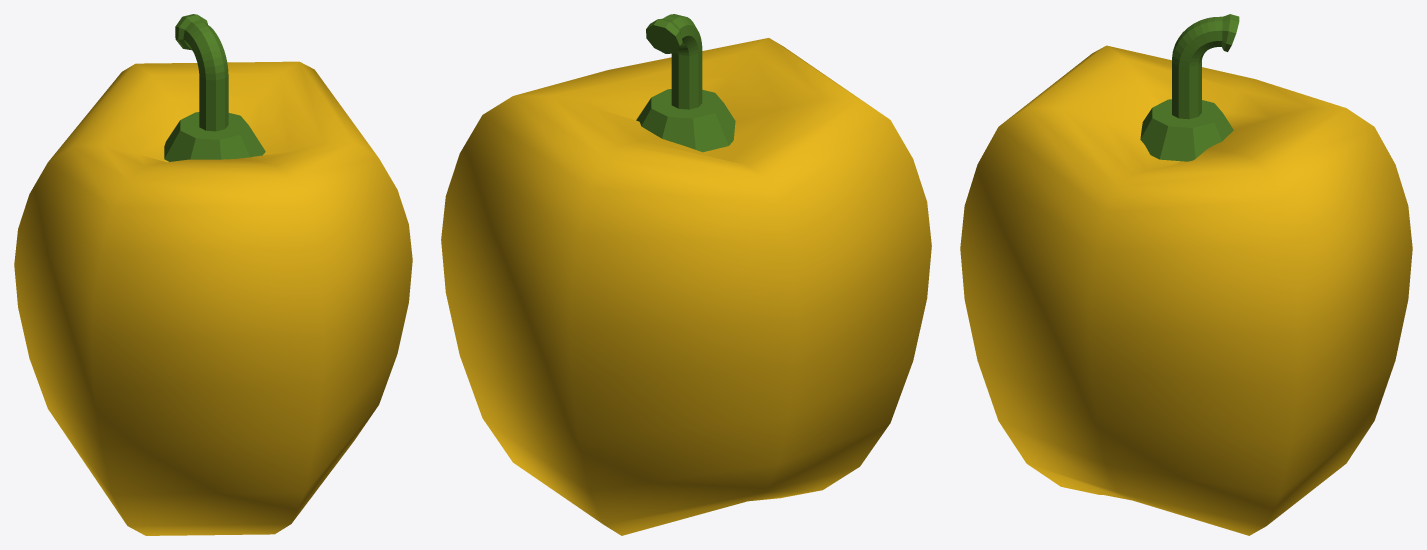
Rendered from YellowBellPepper.fbx.
The picture shows the model from 3 angles, left to right: view 1: azimuth 30°, elevation 25°; view 2: azimuth 150°, elevation 25°; view 3: azimuth 270°, elevation 25°; orthographic projection. The views are drawn at different scales.
Parts seen in each view (by area): view 1: Sphere, Short tree stump; view 2: Sphere, Short tree stump; view 3: Sphere, Short tree stump.
Part boxes in pixels (bbox=[...]): Sphere: bbox=[14, 61, 412, 535]; Short tree stump: bbox=[164, 14, 265, 161]; Sphere: bbox=[441, 38, 931, 535]; Short tree stump: bbox=[636, 14, 735, 152]; Sphere: bbox=[960, 45, 1412, 535]; Short tree stump: bbox=[1140, 14, 1239, 161].
Bounding box in the file's own units: 173 × 218 × 187.
